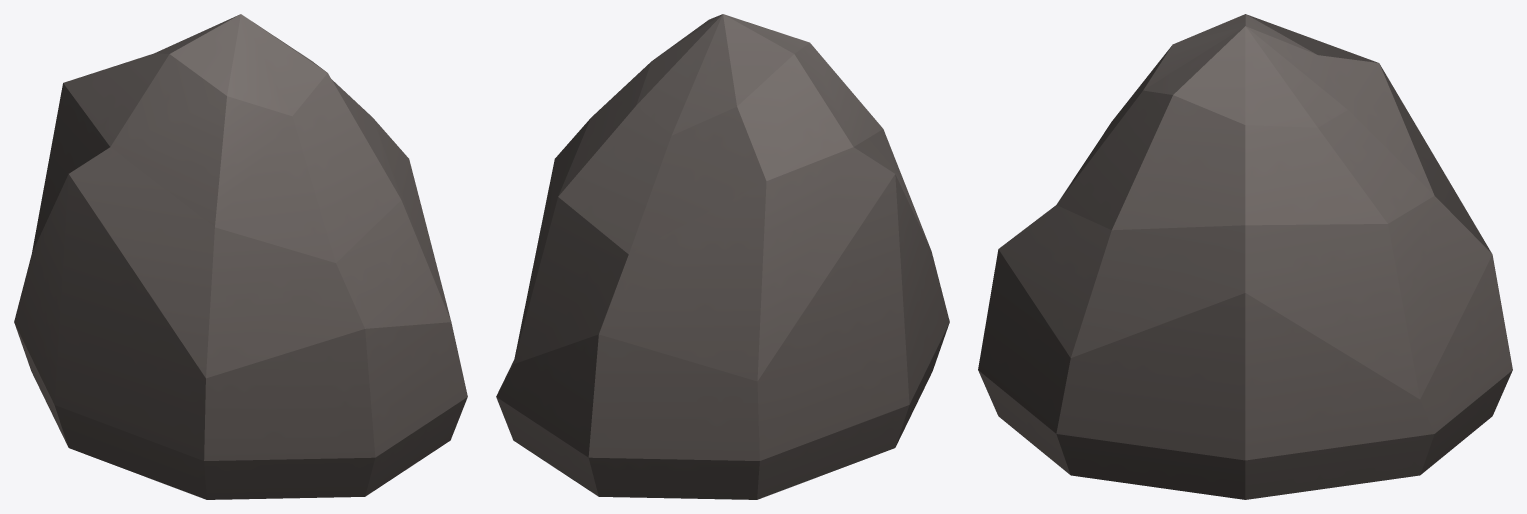
The model's file is pedra6.fbx.
3 views of the same model, side by side, from view 1: azimuth 30°, elevation 25°; view 2: azimuth 150°, elevation 25°; view 3: azimuth 270°, elevation 25° (orthographic).
Parts seen in each view (by area): view 1: pSphere11; view 2: pSphere11; view 3: pSphere11.
Boxes of the visible parts, left/top/right/bottom form: pSphere11: left=14, top=14, right=467, bottom=499; pSphere11: left=496, top=14, right=949, bottom=499; pSphere11: left=978, top=14, right=1512, bottom=499.
Bounding box in the file's own units: 4.46 × 4.48 × 5.56.
